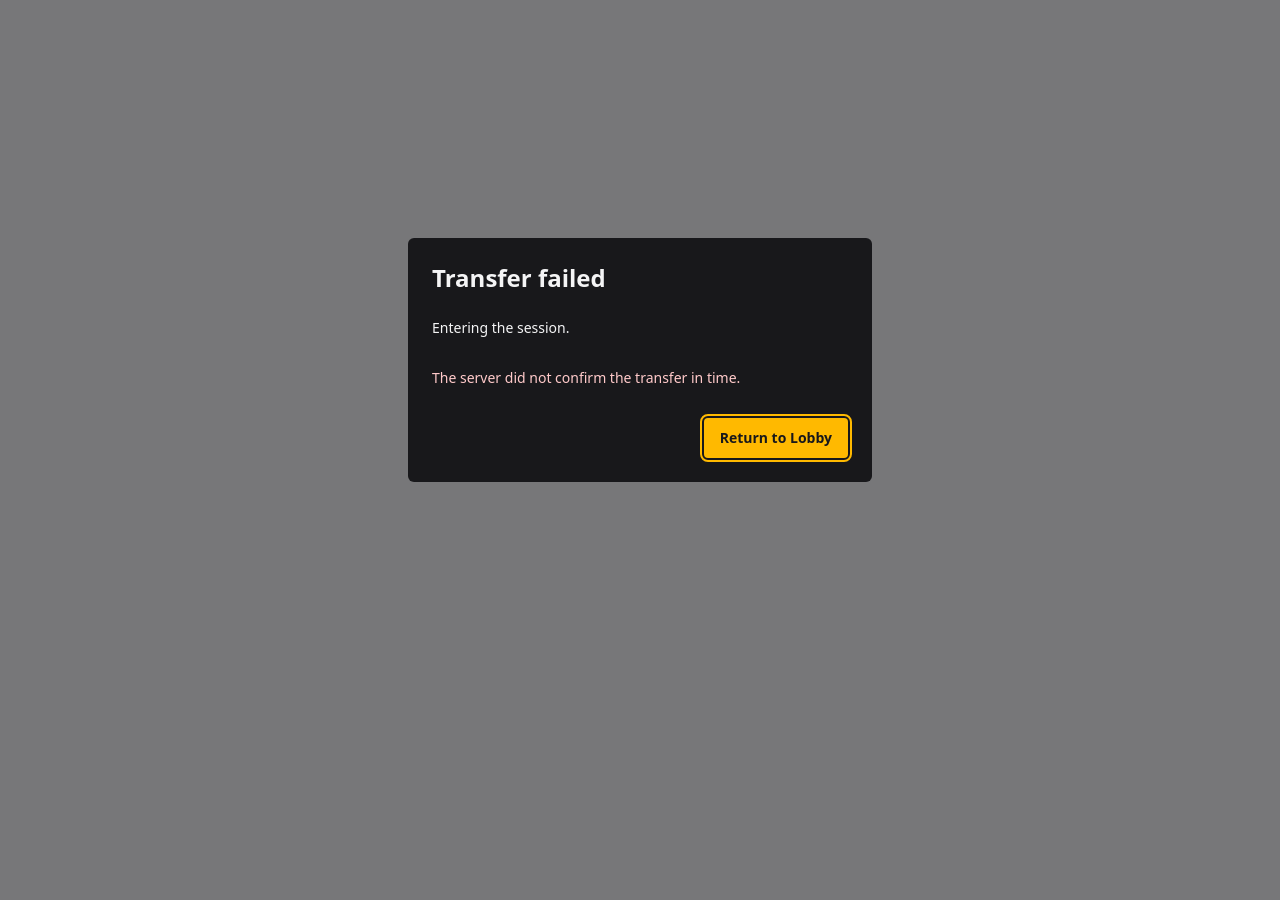
it: TransferScreen › shows an error when the return request is rejected
The image size is (1280, 900).
Click the button "Return to Lobby".
click(776, 438)  # box left=704, top=418, right=848, bottom=458
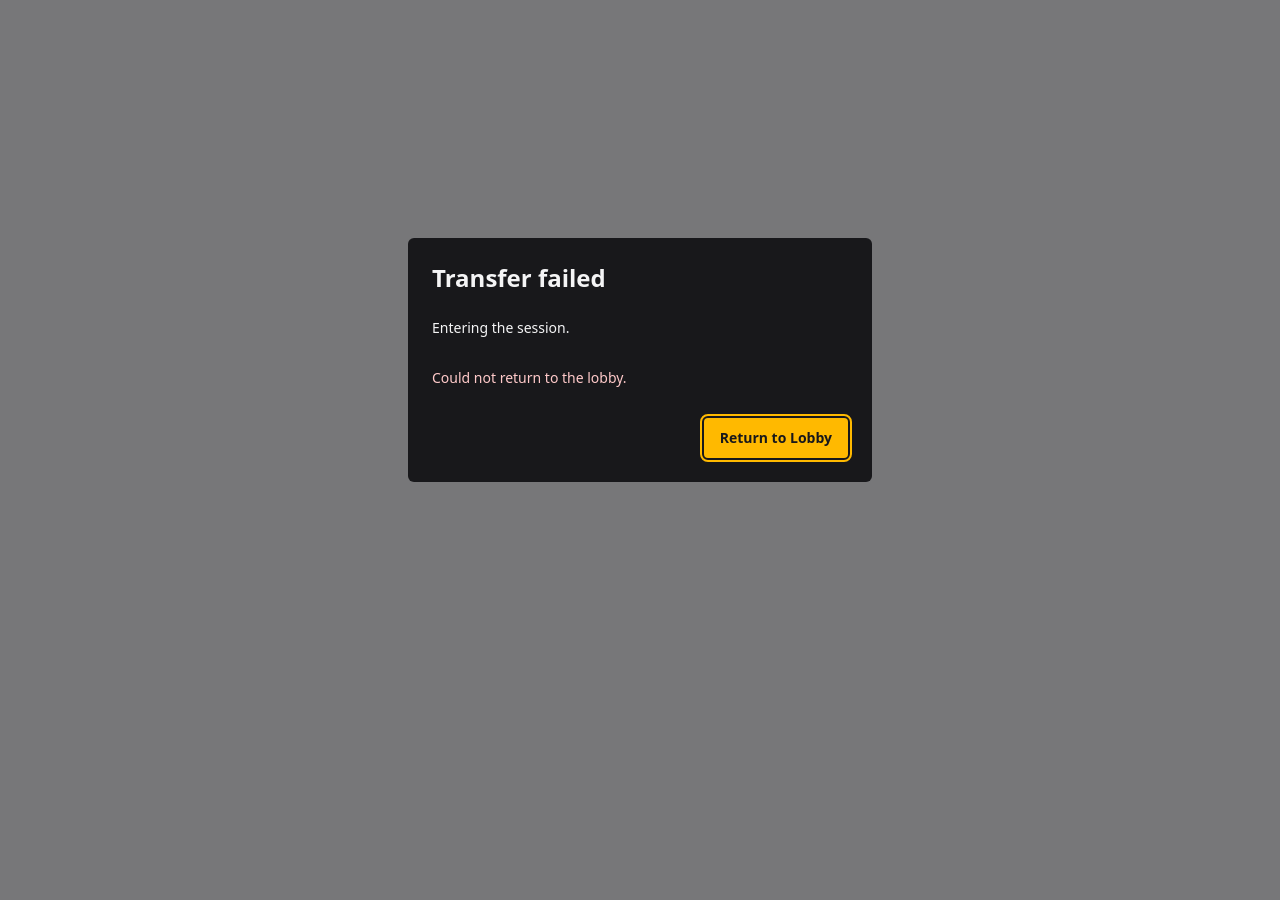
expect the text "Could not return to the lobby." is shown: met, box left=432, top=368, right=627, bottom=387
